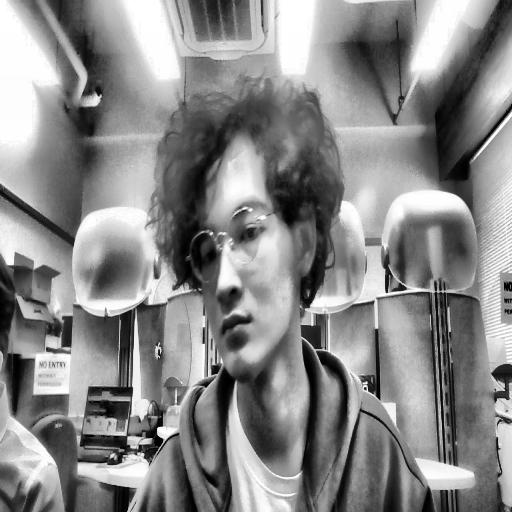Daifuku: (155, 98, 342, 373)
